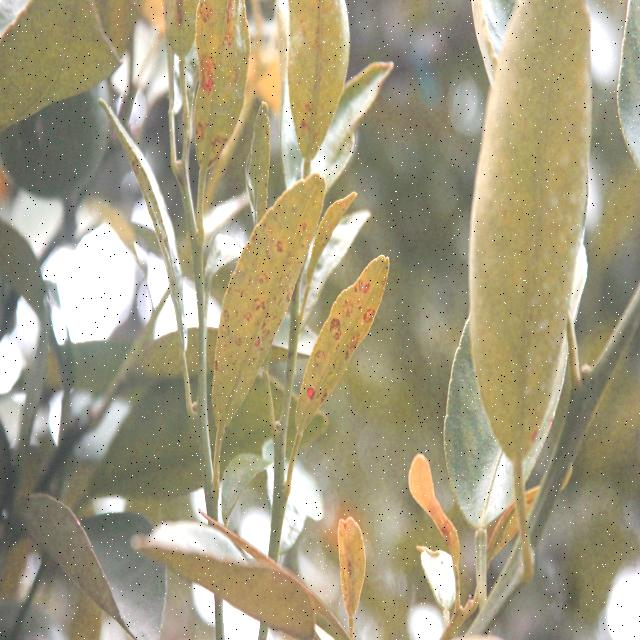canker: (210, 196, 313, 412)
